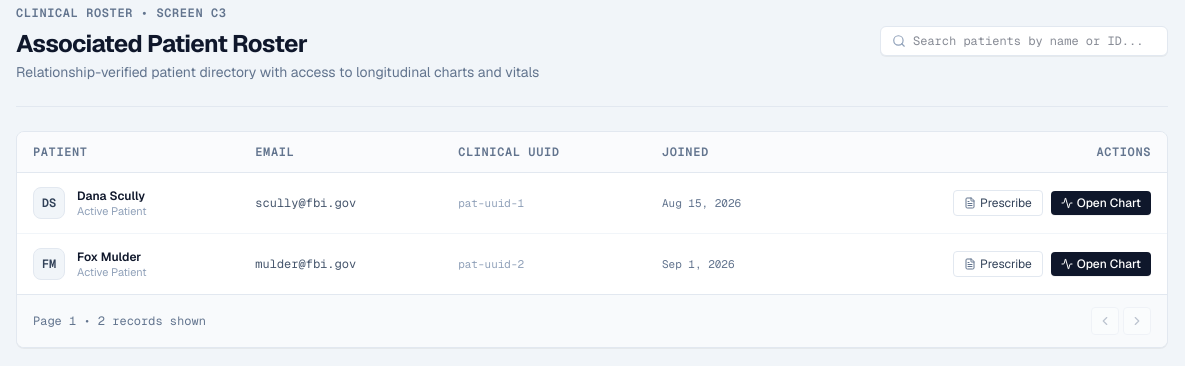
Test case: DoctorPatientRoster Component (Screen C3) › filters roster by search query
Expected: the text "Dana Scully" is shown, [77, 188, 145, 204]
Type "Mulder" into the field with placeholder "Search patients by name or ID..." at (1024, 41), box [880, 26, 1168, 56]
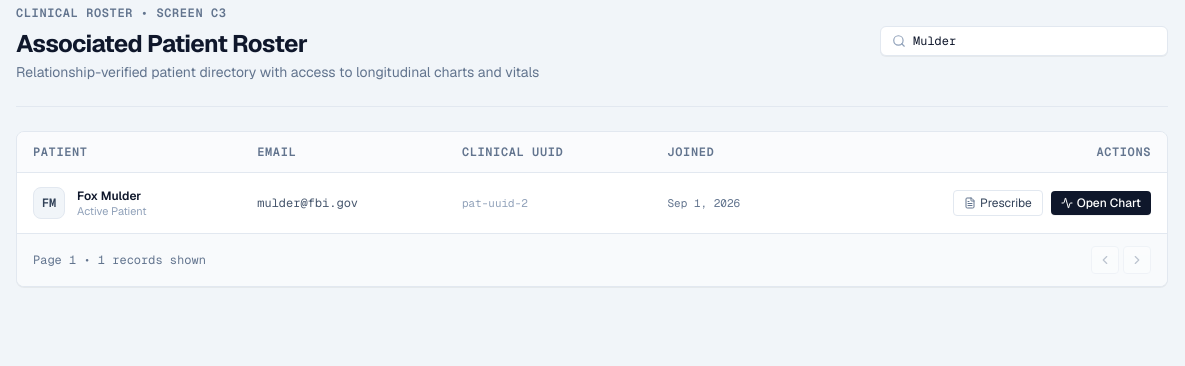
Expected: the text "Fox Mulder" is shown, [77, 188, 141, 204]
Result: the text "Dana Scully" is gone
